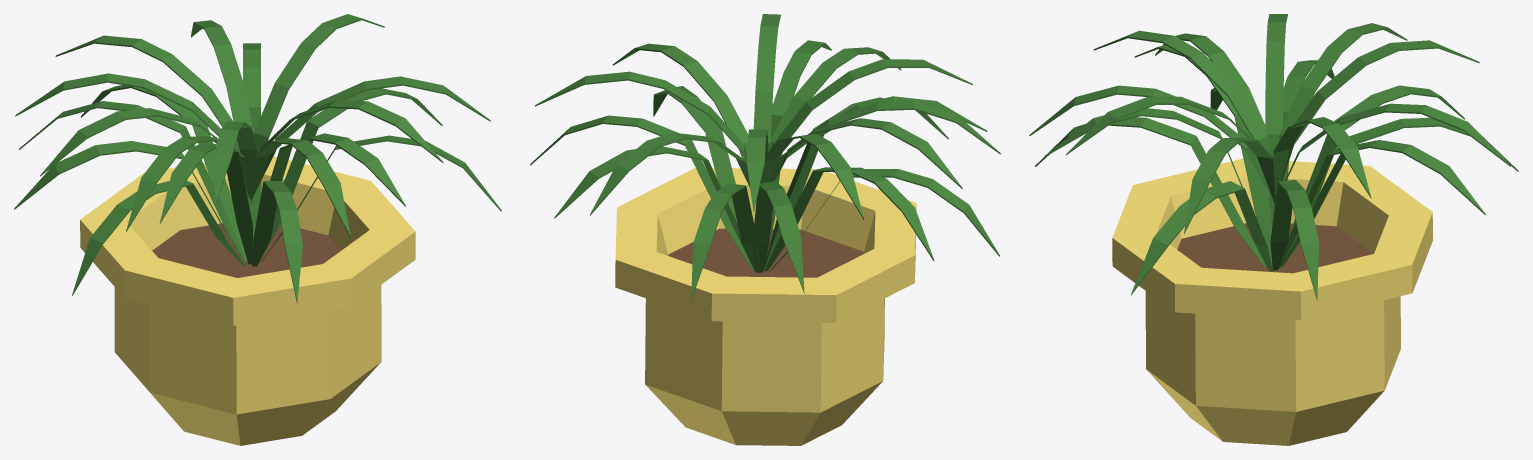
The model's file is Flower_39.fbx.
The picture shows the model from 3 angles, left to right: view 1: azimuth 30°, elevation 25°; view 2: azimuth 150°, elevation 25°; view 3: azimuth 270°, elevation 25°; orthographic projection. The views are drawn at different scales.
Visible parts, largest first — view 1: Flower_39; view 2: Flower_39; view 3: Flower_39.
Part boxes in pixels (box(x1,y1,x2,y2)): Flower_39: box(14, 14, 501, 445); Flower_39: box(530, 14, 1000, 445); Flower_39: box(1029, 14, 1518, 445).
Bounding box in the file's own units: 41.42 × 40.94 × 31.45.
